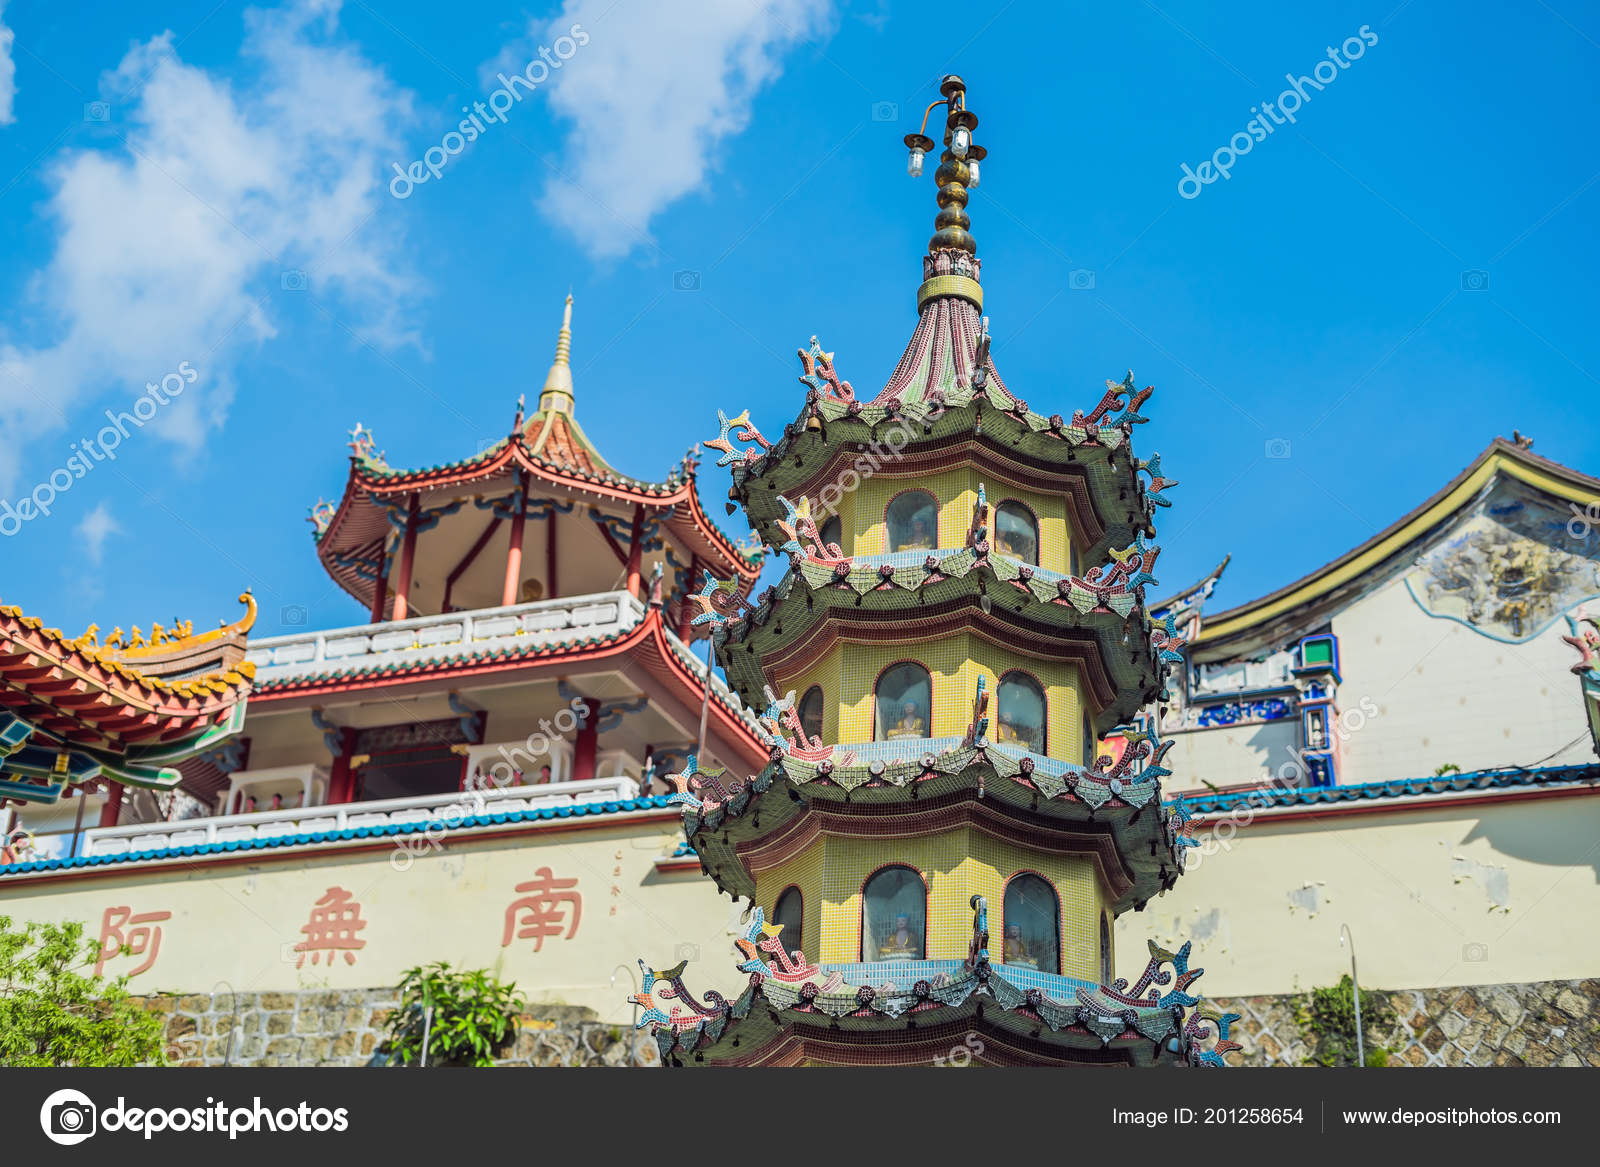Buddhist Temple: (735, 88, 1193, 1046), (260, 311, 677, 758)
